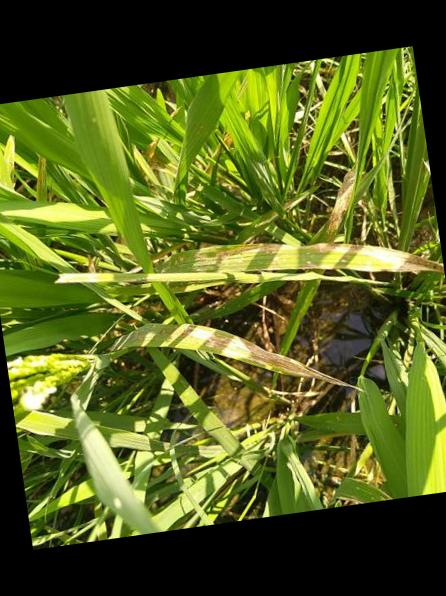Leaf Streak: (145, 323, 362, 391), (171, 243, 444, 273), (327, 166, 356, 234)
